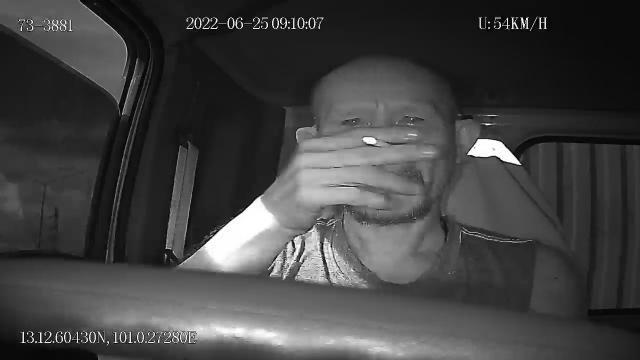SafeDriving: (389, 108, 432, 130), (332, 109, 368, 130)
Smoking: (361, 136, 391, 148)
